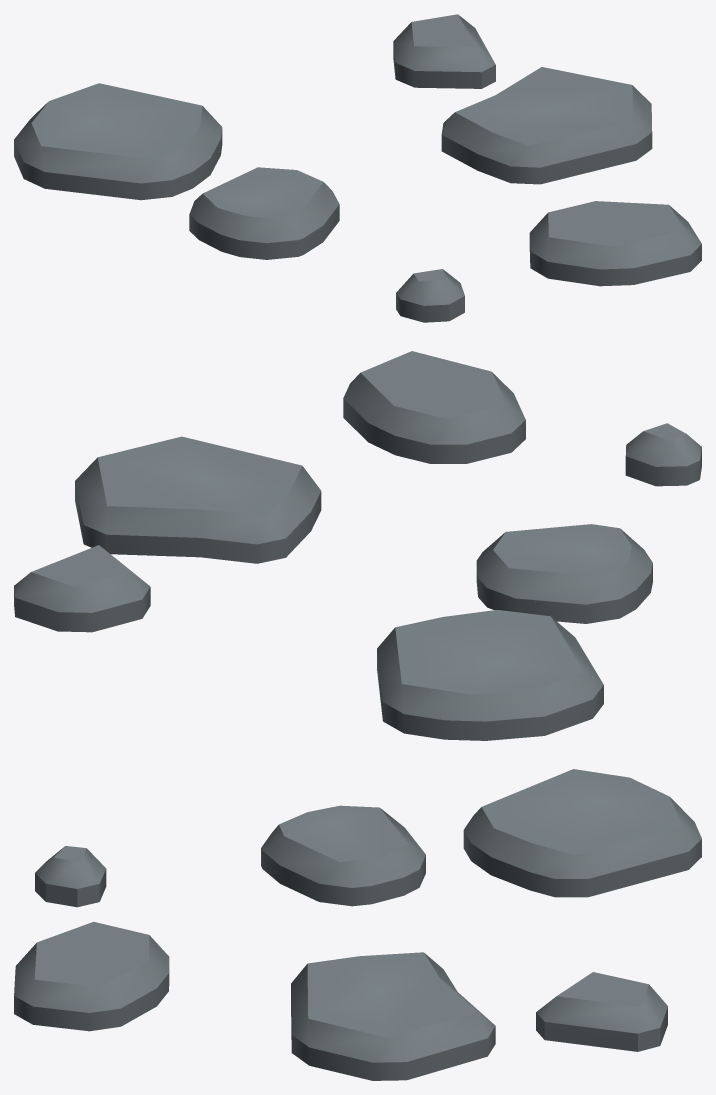
File: Path D.glb
3 renders of one model, top to bottom at view 1: azimuth 30°, elevation 25°; view 2: azimuth 150°, elevation 25°; view 3: azimuth 270°, elevation 25°, orthographic. The views are drawn at different scales.
Visible parts, largest first — view 1: path_D; view 2: path_D; view 3: path_D.
Part boxes in pixels (<box>): path_D: <box>14,14,701,322</box>; path_D: <box>14,351,701,740</box>; path_D: <box>14,769,701,1080</box>.
Size of the model in its own units: 1.66 by 0.1 by 1.71.
Materials: 1 (1 with a texture image).
